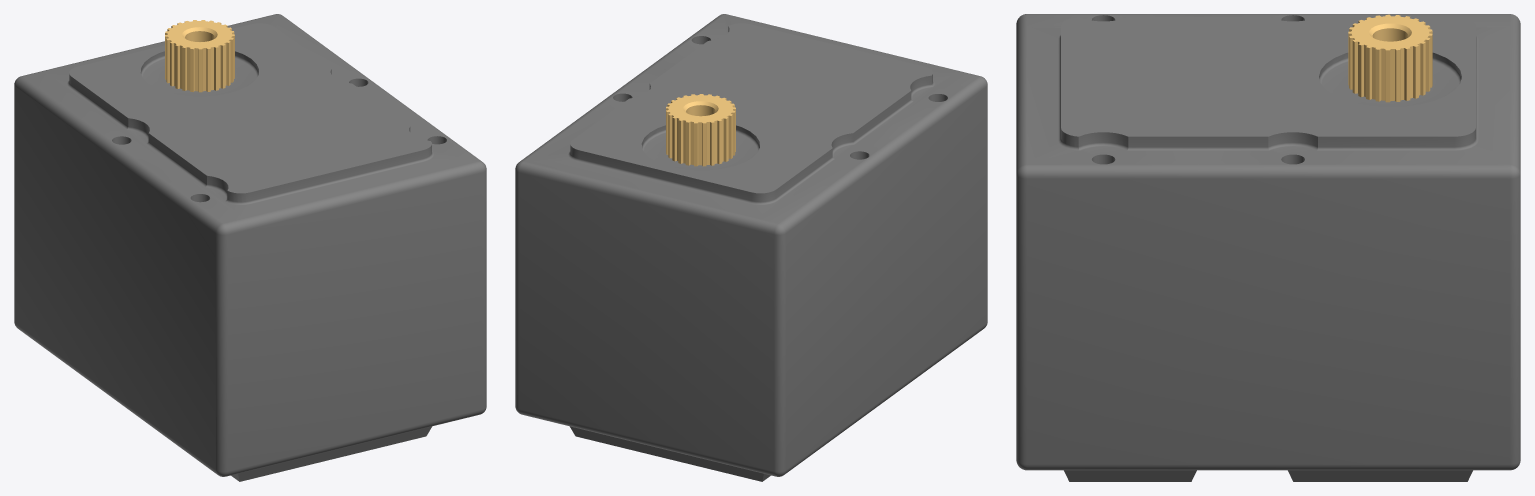
3 views of the same model, side by side, from view 1: azimuth 30°, elevation 25°; view 2: azimuth 150°, elevation 25°; view 3: azimuth 270°, elevation 25° (orthographic). The views are drawn at different scales.
Parts seen in each view (by area): view 1: node0, node1; view 2: node0, node1; view 3: node0, node1.
Boxes of the visible parts, x1,y1,x2,y2 form: node0: (14,14,486,481); node1: (165,20,234,92); node0: (515,14,987,481); node1: (666,94,735,166); node0: (1016,14,1520,481); node1: (1348,14,1432,102).
Bounding box in the file's own units: 0.0263 × 0.0307 × 0.0353.
